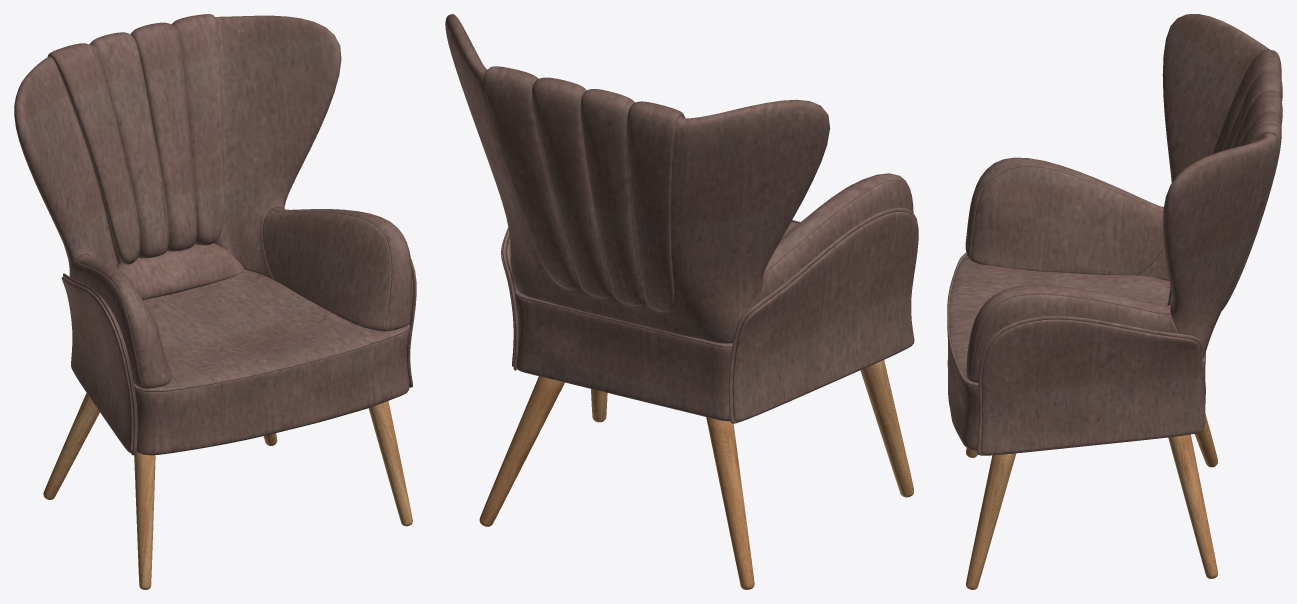
The model's file is relaxing armchair_marontar.glb.
The picture shows the model from 3 angles, left to right: view 1: azimuth 30°, elevation 25°; view 2: azimuth 150°, elevation 25°; view 3: azimuth 270°, elevation 25°; orthographic projection. The views are drawn at different scales.
Visible parts, largest first — view 1: Ashley’s Furniture.002; view 2: Ashley’s Furniture.002; view 3: Ashley’s Furniture.002.
Part boxes in pixels (x1,y1,x2,y2): Ashley’s Furniture.002: (14,14,416,589); Ashley’s Furniture.002: (445,14,918,589); Ashley’s Furniture.002: (947,14,1282,589).
Size of the model in its own units: 0.7655 by 0.9536 by 0.6643.
Materials: 2 (2 with a texture image).
